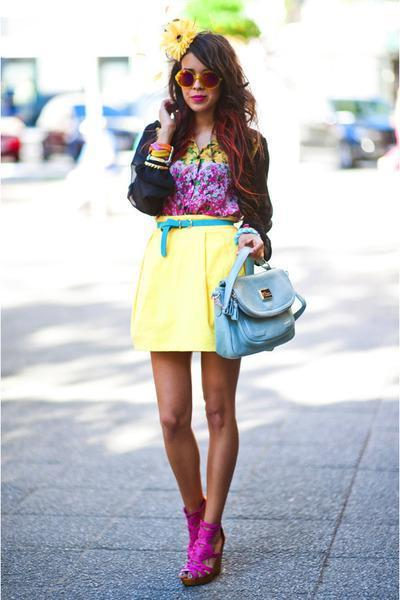bag: (212, 252, 305, 358)
jacket: (128, 120, 272, 227)
shirt: (166, 126, 230, 217)
shoe: (187, 492, 227, 575)
skirt: (122, 215, 237, 362)
sunglass: (169, 51, 195, 83)
